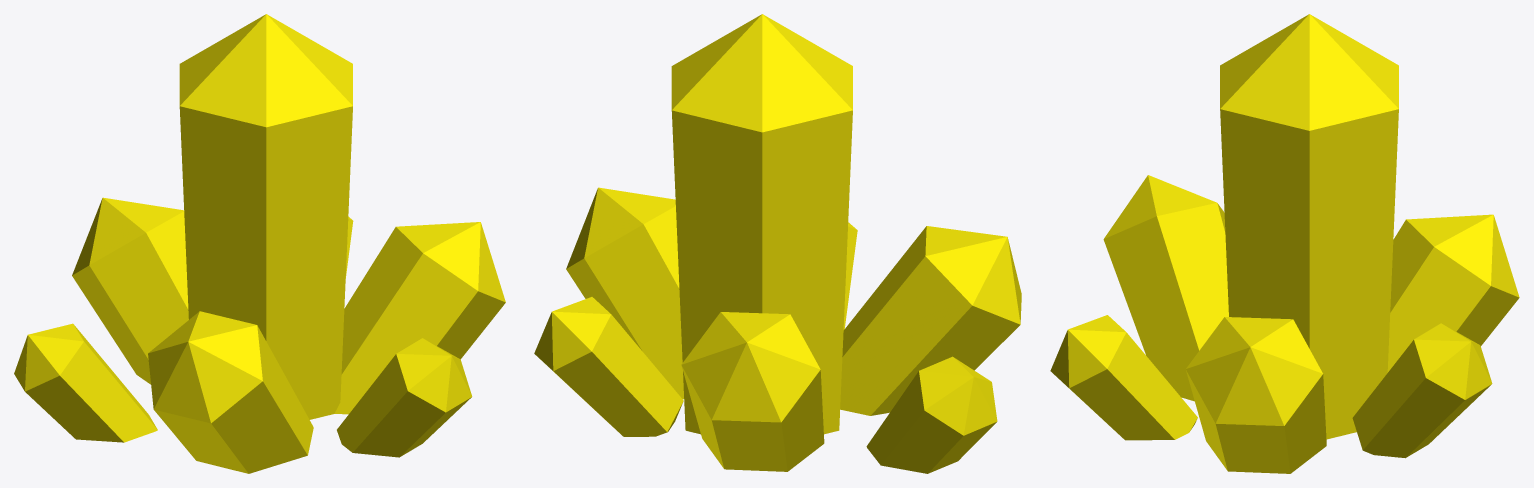
The model's file is alchemica_crystal_gltr.fbx.
3 views of the same model, side by side, from view 1: azimuth 30°, elevation 25°; view 2: azimuth 150°, elevation 25°; view 3: azimuth 270°, elevation 25° (orthographic). The views are drawn at different scales.
Visible parts, largest first — view 1: alchemica_crystal_gltr; view 2: alchemica_crystal_gltr; view 3: alchemica_crystal_gltr.
Boxes of the visible parts, <box> form: alchemica_crystal_gltr: <box>14,14,505,473</box>; alchemica_crystal_gltr: <box>534,14,1021,473</box>; alchemica_crystal_gltr: <box>1050,14,1519,473</box>.
Bounding box in the file's own units: 2.11 × 1.77 × 1.92.
